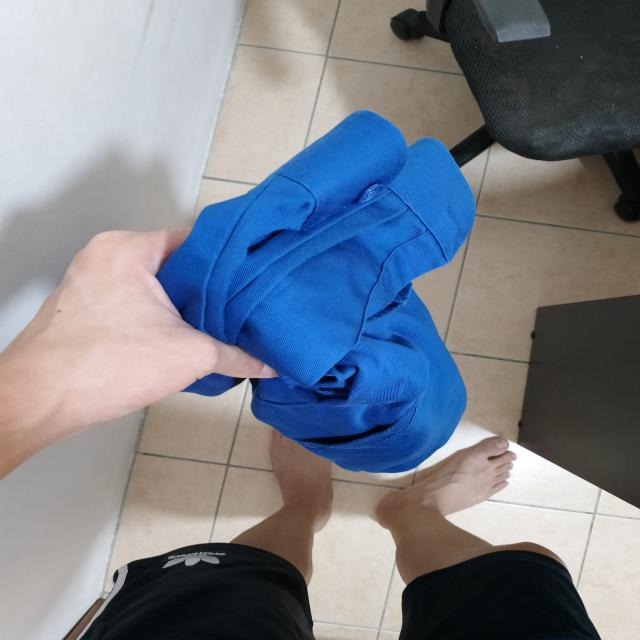person_without_labcoat: (0, 111, 475, 473)
